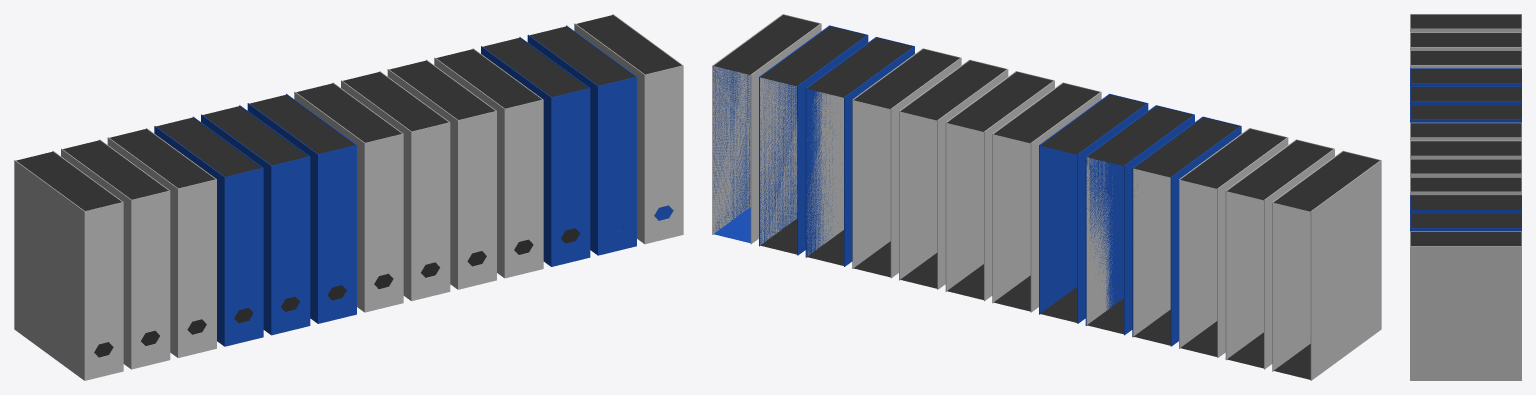
File: Books_03.fbx
The picture shows the model from 3 angles, left to right: view 1: azimuth 30°, elevation 25°; view 2: azimuth 150°, elevation 25°; view 3: azimuth 270°, elevation 25°; orthographic projection. The views are drawn at different scales.
Parts seen in each view (by area): view 1: Book0.024; view 2: Book0.024; view 3: Book0.024.
Boxes of the visible parts, x1=… form: Book0.024: x1=14, y1=14, x2=683, y2=380; Book0.024: x1=712, y1=14, x2=1381, y2=380; Book0.024: x1=1410, y1=14, x2=1521, y2=380.
Bounding box in the file's own units: 76.85 × 20.76 × 15.64.
